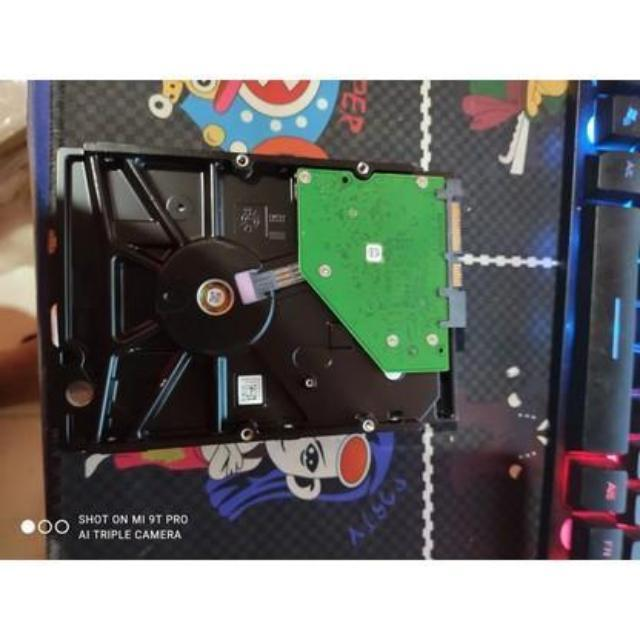DISK: (43, 143, 465, 457)
